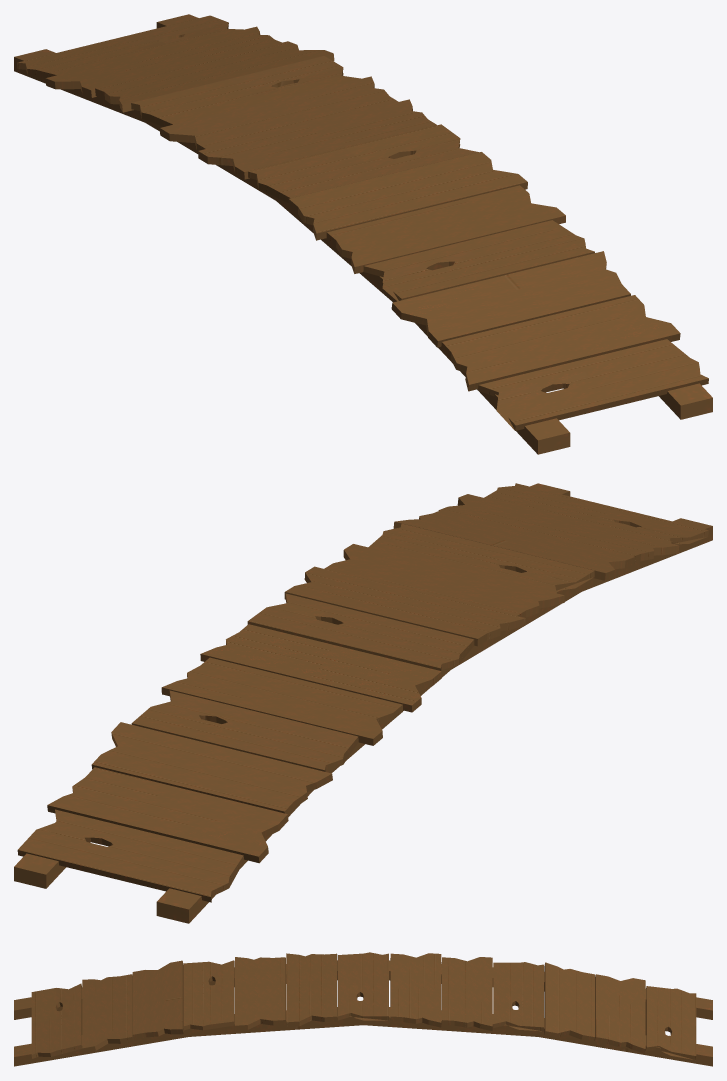
File: Bridge.fbx
3 renders of one model, top to bottom at view 1: azimuth 30°, elevation 25°; view 2: azimuth 150°, elevation 25°; view 3: azimuth 270°, elevation 25°, orthographic. The views are drawn at different scales.
Parts seen in each view (by area): view 1: RegPlank_2, RegPlankRotated, PlankWHoleRotated_1, RegPlank, RegPlank_1, PlankWHoleRotated, PlankWHole, RegPlankRotated_1, RegPlankRotated_2, PlankWhole_1, Bridge_Support, RegPlank_3 (+2 smaller); view 2: RegPlankRotated_3, RegPlank_3, PlankWHole_2, RegPlankRotated_2, RegPlankRotated_1, PlankWhole_1, PlankWHole, RegPlank, RegPlank_1, PlankWHoleRotated, RegPlankRotated, Bridge_Support (+2 smaller); view 3: Bridge_Support, RegPlankRotated_1, RegPlankRotated, RegPlank, RegPlankRotated_2, RegPlank_2, RegPlankRotated_3, RegPlank_1, RegPlank_3, PlankWHoleRotated, PlankWHoleRotated_1, PlankWHole_2 (+2 smaller).
Boxes of the visible parts, box(x1,y1,x2,y2) form: RegPlank_2: box(441, 295, 680, 391); RegPlankRotated: box(391, 251, 630, 347); PlankWHoleRotated_1: box(478, 339, 708, 430); RegPlank: box(288, 152, 527, 240); RegPlank_1: box(326, 185, 565, 273); PlankWHoleRotated: box(363, 220, 594, 301); PlankWHole: box(248, 124, 478, 202); RegPlankRotated_1: box(198, 99, 436, 179); RegPlankRotated_2: box(160, 76, 398, 151); PlankWhole_1: box(131, 56, 360, 126); Bridge_Support: box(14, 14, 712, 454); RegPlank_3: box(95, 41, 334, 112); RegPlankRotated_3: box(47, 767, 288, 863); RegPlank_3: box(91, 722, 332, 814); PlankWHole_2: box(17, 809, 244, 902); RegPlankRotated_2: box(161, 657, 402, 745); RegPlankRotated_1: box(200, 624, 441, 712); PlankWhole_1: box(131, 690, 358, 771); PlankWHole: box(247, 593, 474, 670); RegPlank: box(284, 566, 525, 646); RegPlank_1: box(324, 544, 564, 617); PlankWHoleRotated: box(368, 523, 594, 593); RegPlankRotated: box(393, 510, 634, 580); Bridge_Support: box(14, 483, 712, 923); Bridge_Support: box(14, 960, 712, 1066); RegPlankRotated_1: box(390, 953, 441, 1027); RegPlankRotated: box(132, 960, 183, 1039); RegPlank: box(286, 953, 337, 1026); RegPlankRotated_2: box(441, 957, 492, 1030); RegPlank_2: box(82, 974, 133, 1052); RegPlankRotated_3: box(594, 974, 645, 1053); RegPlank_1: box(235, 957, 285, 1030); RegPlank_3: box(544, 962, 594, 1041); PlankWHoleRotated: box(183, 960, 234, 1030); PlankWHoleRotated_1: box(31, 983, 82, 1058); PlankWHole_2: box(645, 986, 696, 1059).
Bounding box in the file's own units: 243 × 87.37 × 1033.
